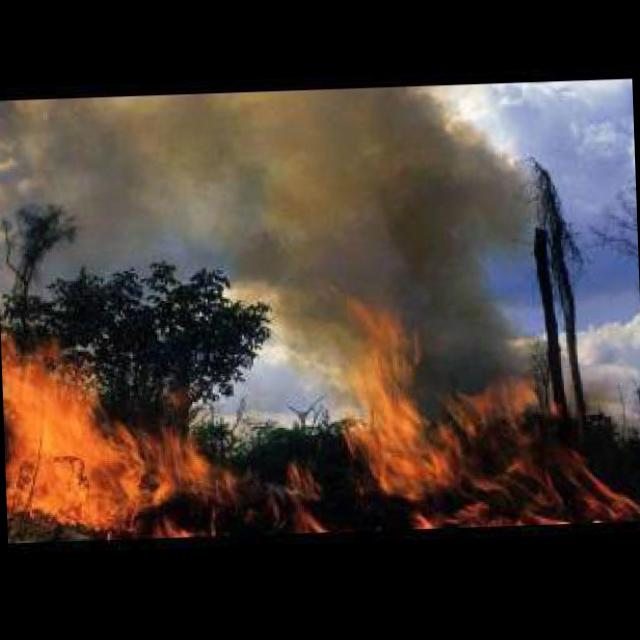fire: (342, 299, 628, 529), (0, 302, 227, 540), (275, 456, 327, 528)
smoke: (190, 80, 518, 366)
